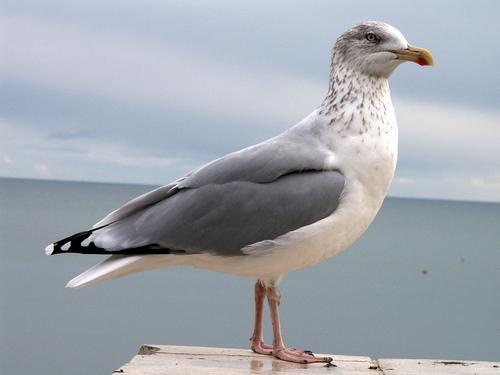bird: (44, 17, 439, 362)
